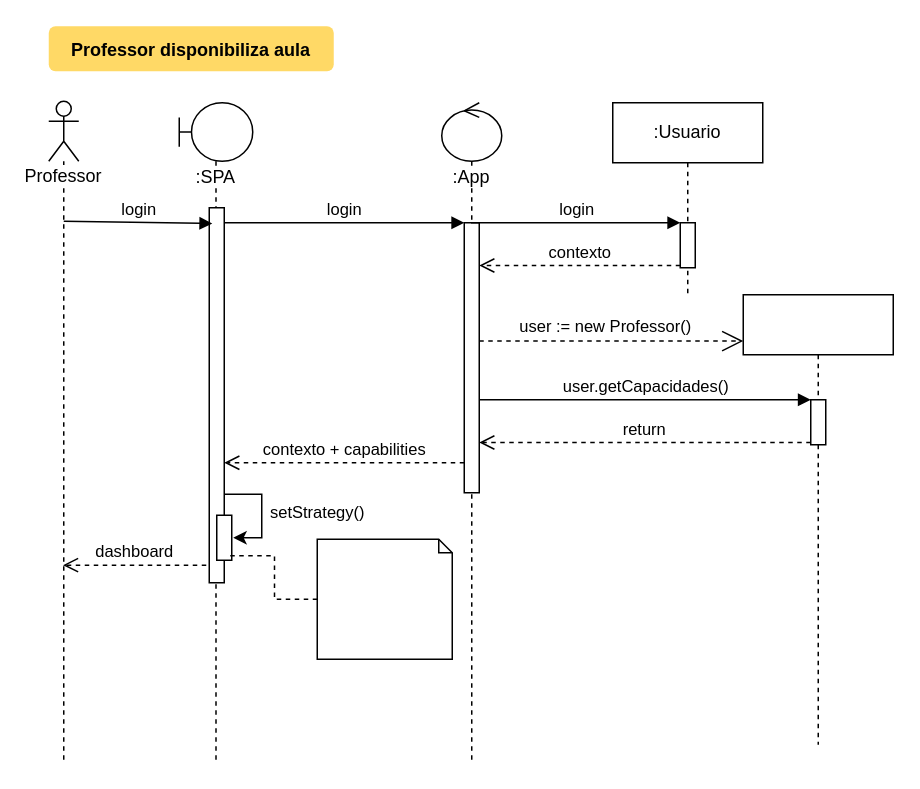
The diagram is 920 pixels wide and 789 high, and some of its shapes have lost their labels. The shapes that lost their labels are listed below. From the top down, each one's box as (x1, y1, x2, y2) in pixels, then its label:
(742, 293, 893, 745): :Professor
(316, 538, 452, 659): A estratégia mostra a tela específica para o usuário que efetuou login
